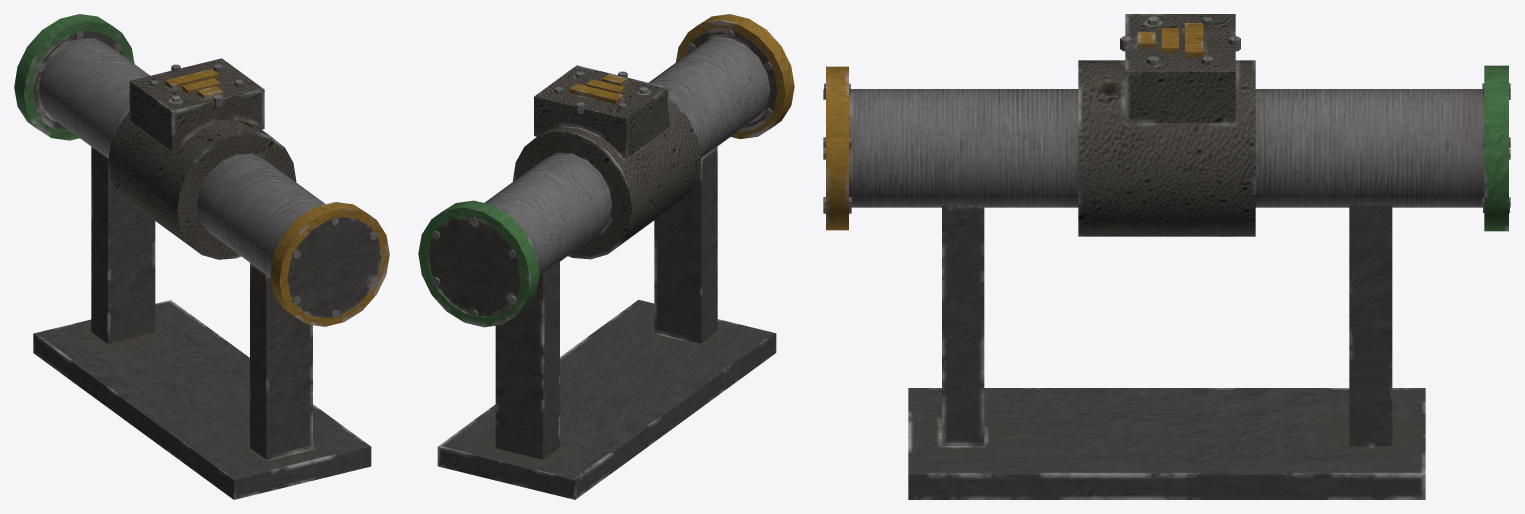
Rendered from feValveCheck_HD.fbx.
The picture shows the model from 3 angles, left to right: view 1: azimuth 30°, elevation 25°; view 2: azimuth 150°, elevation 25°; view 3: azimuth 270°, elevation 25°; orthographic projection. The views are drawn at different scales.
Visible parts, largest first — view 1: feValveCheck_Base; view 2: feValveCheck_Base; view 3: feValveCheck_Base.
Part boxes in pixels (bbox=[...]): feValveCheck_Base: bbox=[14, 14, 389, 499]; feValveCheck_Base: bbox=[418, 14, 794, 499]; feValveCheck_Base: bbox=[823, 14, 1510, 499].
Bounding box in the file's own units: 0.3012 × 0.6806 × 1.01.
1 material, 1 textured.
